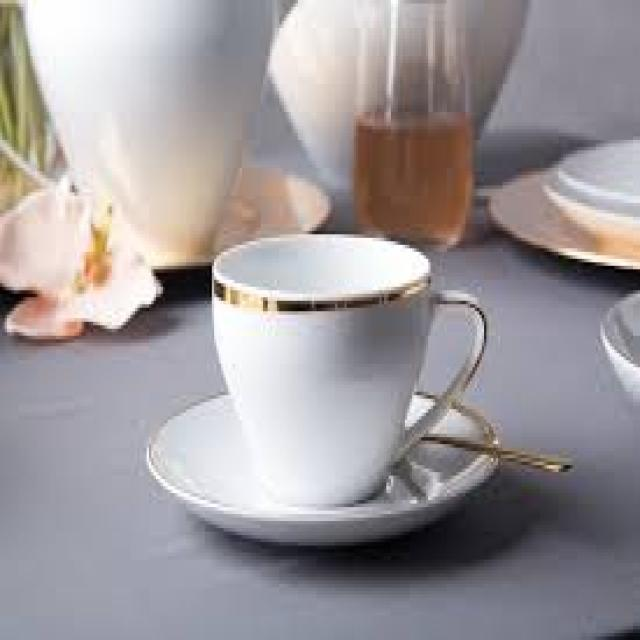taza: (190, 216, 492, 510)
